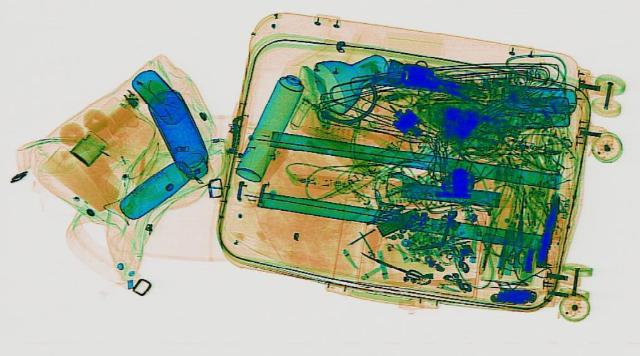Scissors: (352, 248, 426, 279)
